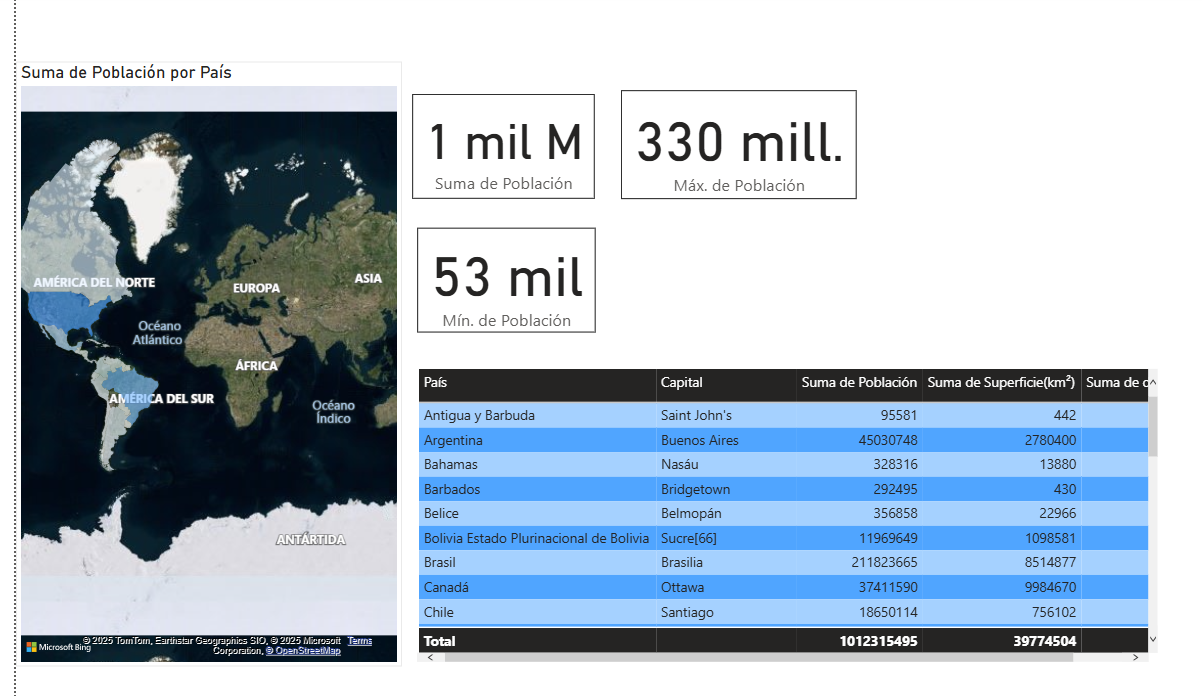

What the dashboard file says about the page in this screenshot:
{"tool":"powerbi","page":{"name":"Página 1","canvas":[1280,720],"ordinal":0},"visuals":[{"type":"filledMap","fields":{"Category":["Estados soberanos[editar].País"]},"box":[0,66,378,592],"z":0},{"type":"tableEx","fields":{"Values":["Estados soberanos[editar].País","Estados soberanos[editar].Capital","Sum(Estados soberanos[editar].Población)","Sum(Estados soberanos[editar].Superficie(km²))","Sum(Estados soberanos[editar].densidad)"]},"box":[388,362,734,296],"z":1000},{"type":"card","fields":{"Values":["Sum(Estados soberanos[editar].Población)"]},"box":[388,98,178,102],"z":2000},{"type":"card","fields":{"Values":["Min(Estados soberanos[editar].Población)"]},"box":[392,228,174,102],"z":2001},{"type":"card","fields":{"Values":["Max(Estados soberanos[editar].Población)"]},"box":[592,94,230,106],"z":2002}]}

Visuals, with their boxes in screenshot pixels (x1, y1, x2, y2), scaled from the page's 1280x720 canvas onto the 1202x696 screenshot:
filledMap - Estados soberanos[editar].País: Rect(0, 64, 355, 636)
tableEx - Estados soberanos[editar].País x Estados soberanos[editar].Capital: Rect(364, 350, 1054, 636)
card - Sum(Estados soberanos[editar].Población): Rect(364, 95, 532, 193)
card - Min(Estados soberanos[editar].Población): Rect(368, 220, 532, 319)
card - Max(Estados soberanos[editar].Población): Rect(556, 91, 772, 193)
